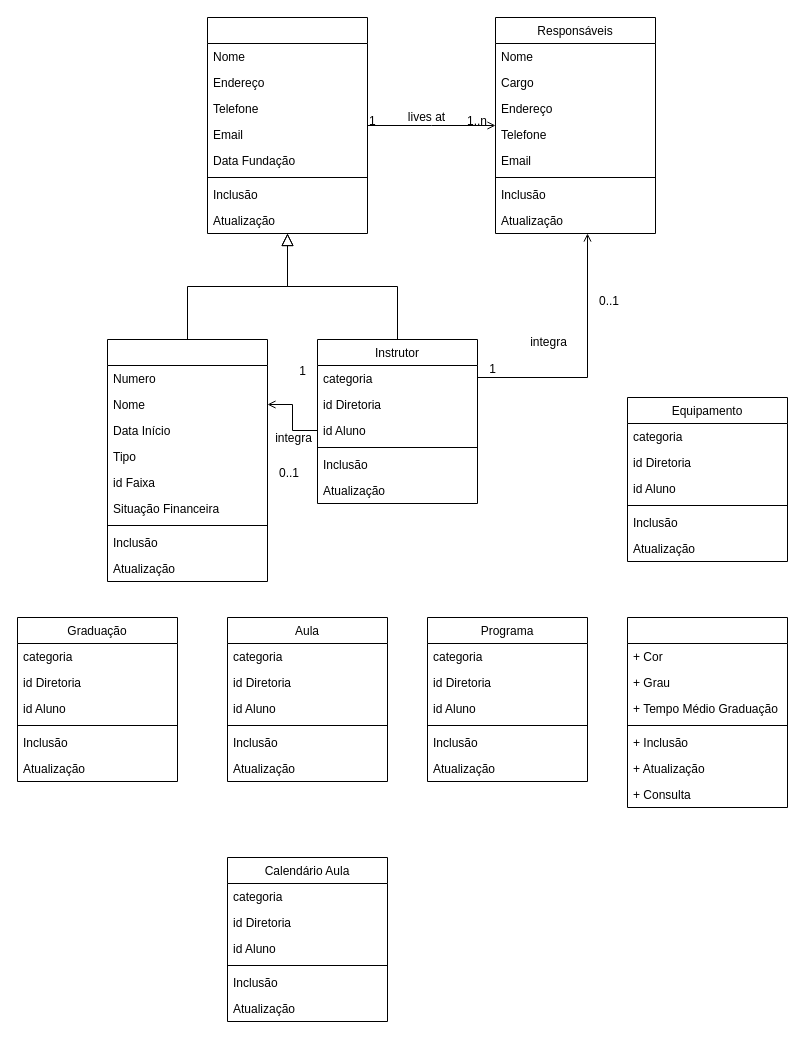
The diagram is 805 pixels wide and 1042 high, and some of its shapes have lost their labels. The box of each missing label's shape, as (x1, y1, x2, y2) in pixels:
Aluno: (106, 338, 268, 582)
Escola: (206, 16, 368, 234)
Faixa: (626, 616, 788, 808)
